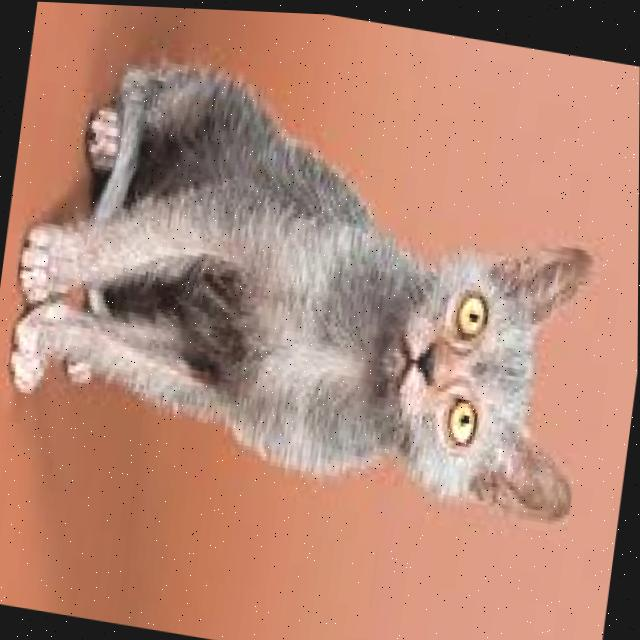Lykoi: (0, 32, 628, 527)
